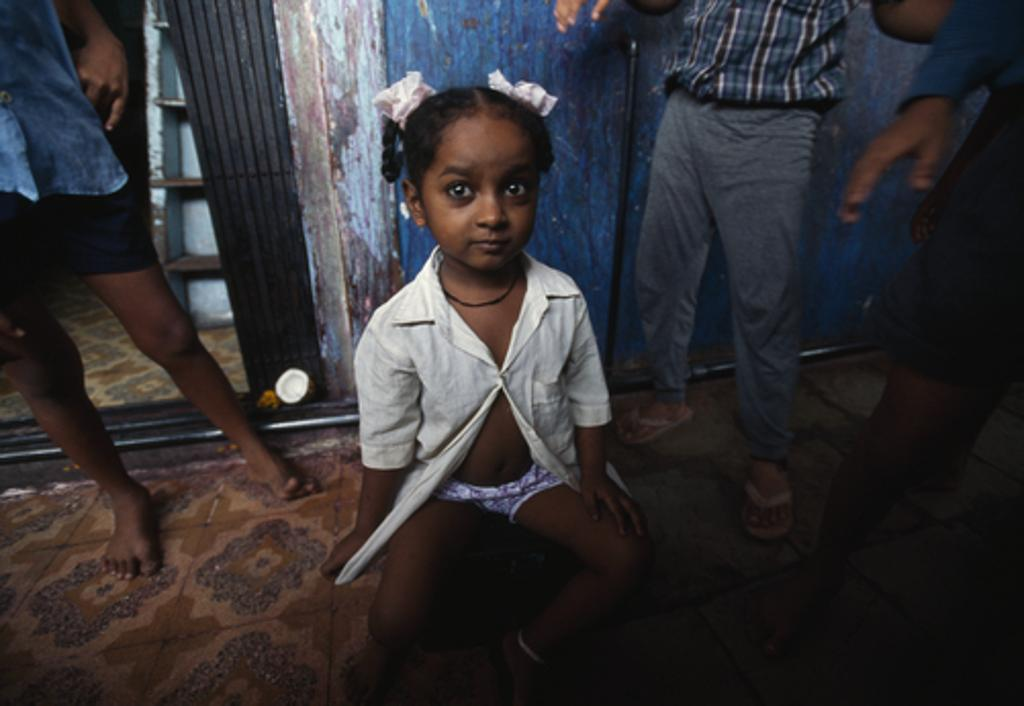face: (426, 124, 530, 262)
